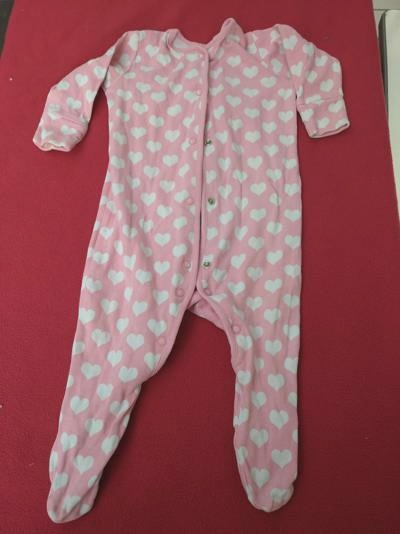Body: (21, 6, 370, 512)
